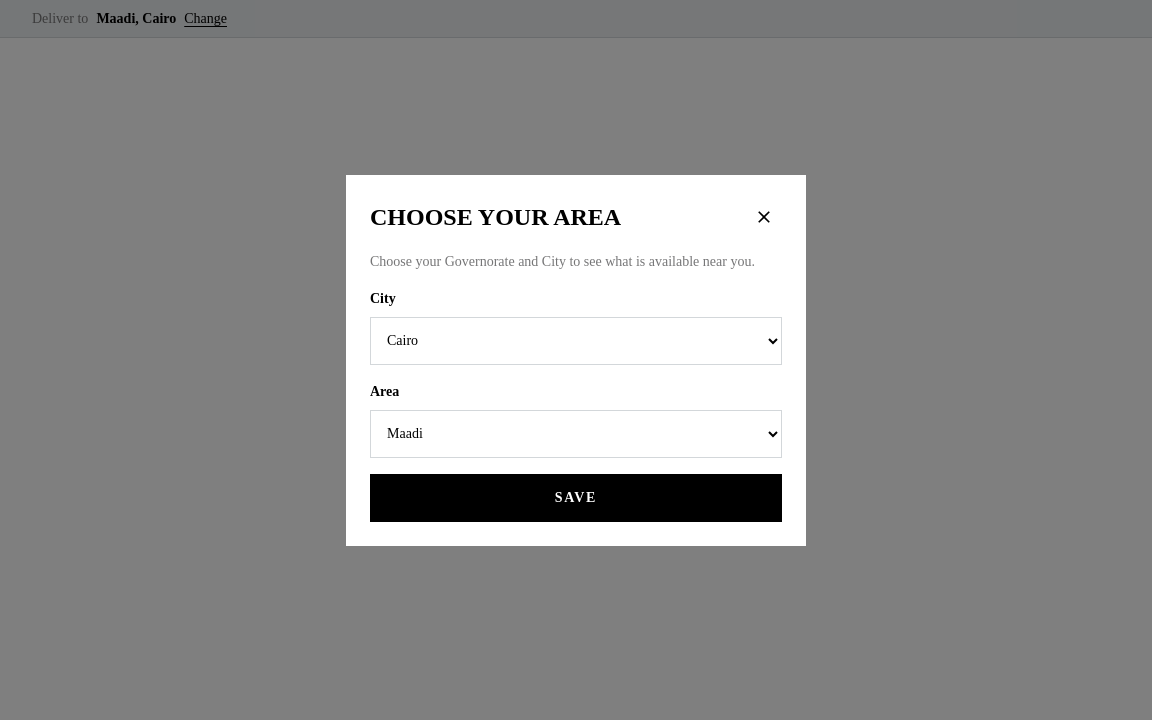
Test: area chooser › stays closed for visitors without a session; shows the current area; refusals stay in the dialog
Expected: the button with test id "area-open" shows "Maadi, Cairo", 96,8 -> 227,29
Select "Nasr City" in the dropdown with test id "area-area". click: [576, 434]
box: 370,410 -> 782,458
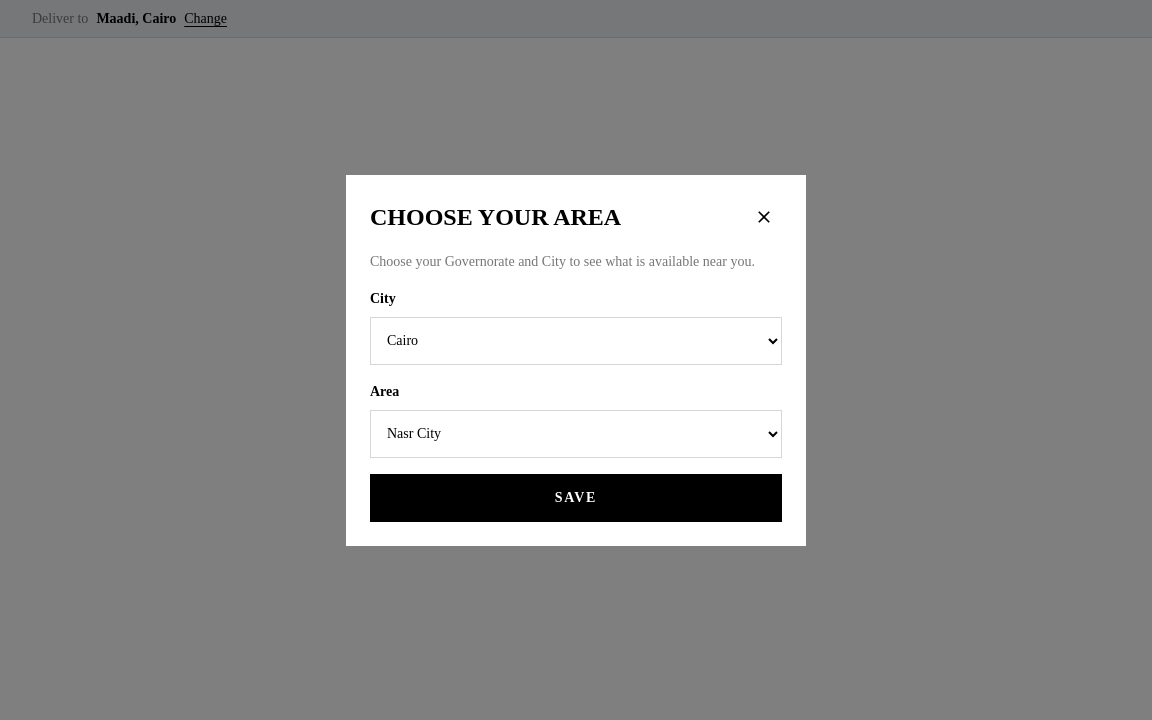
Click the button "Save". click: [576, 498]
box: 370,474 -> 782,522
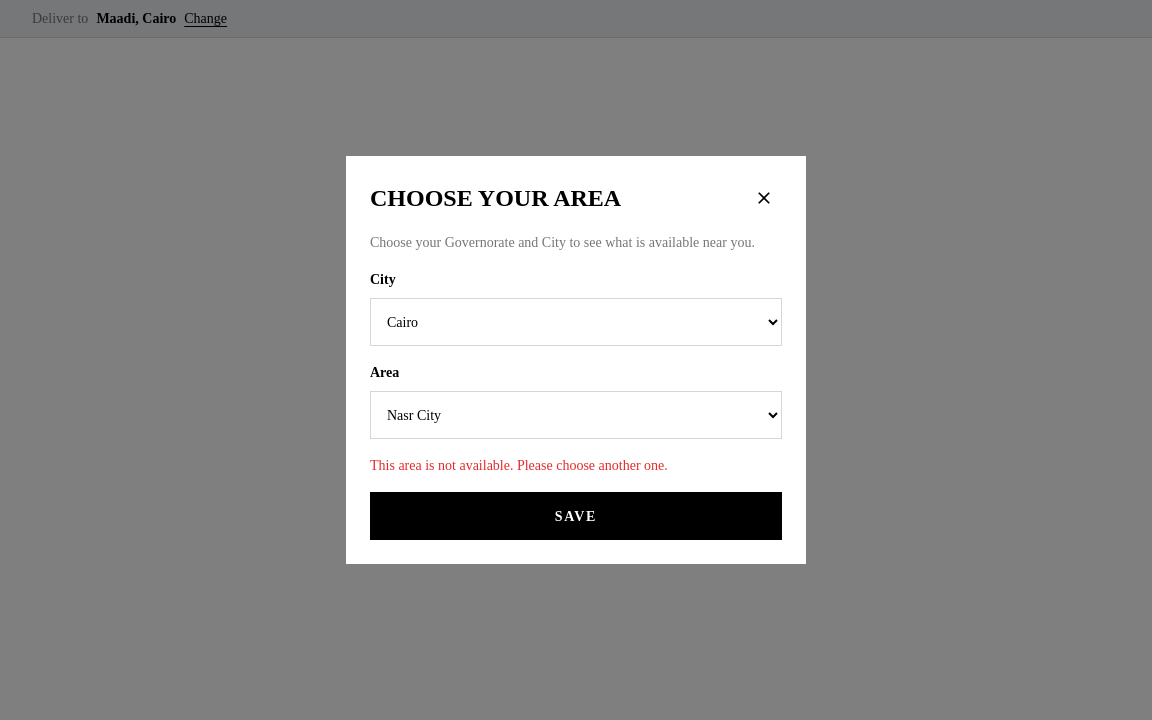
Expected: the dialog with test id "area-dialog" is shown, 346,156 -> 806,564
Now the message reads "This area is not available. Please choose another one.", box 370,458 -> 668,473
